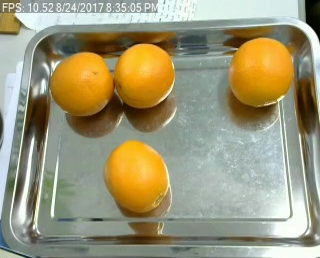Orange: (104, 140, 169, 214), (228, 37, 294, 107), (50, 51, 113, 115), (114, 44, 176, 109)
